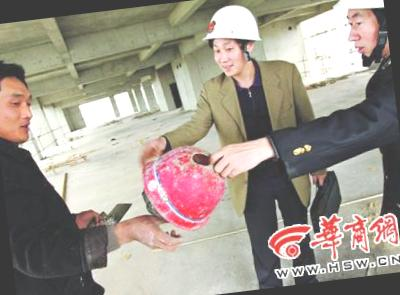no_helmet: (0, 53, 41, 151)
